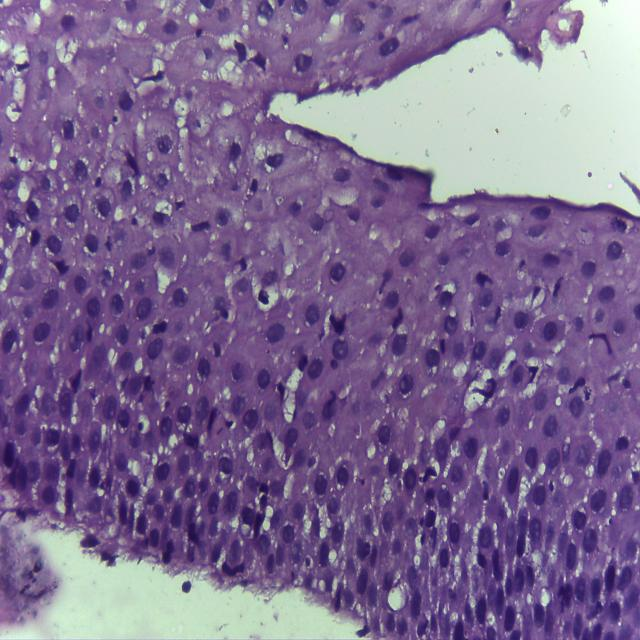Nuclear Hyperchromatism: (0, 224, 640, 640)
